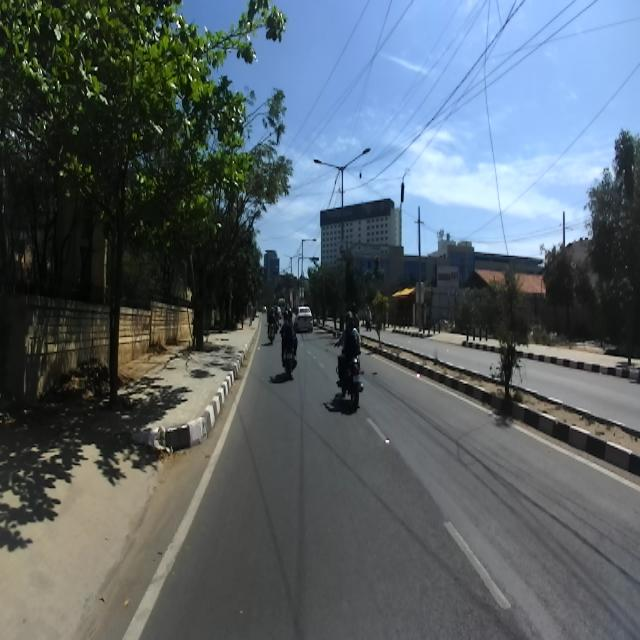tree ahead at: (3, 0, 182, 453)
